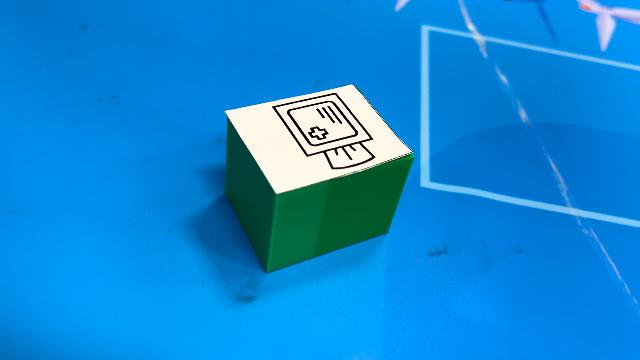napkin: (222, 85, 412, 271)
